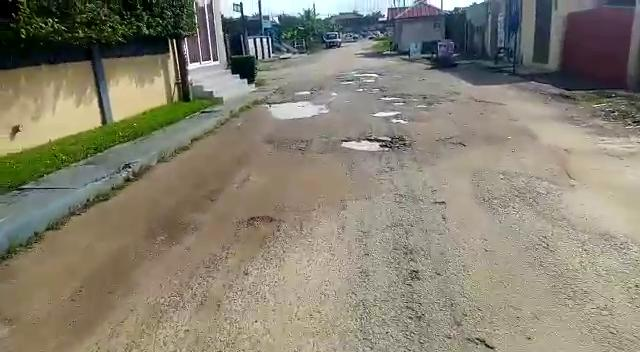pothole: (336, 134, 410, 153), (269, 99, 329, 121), (378, 95, 420, 104), (372, 112, 402, 118), (389, 118, 409, 124)
